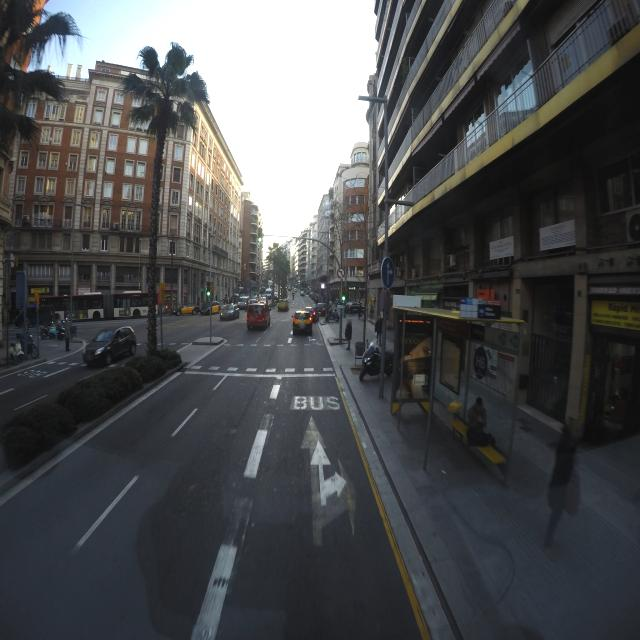car: (82, 327, 136, 368), (246, 304, 271, 330), (292, 310, 313, 336), (219, 304, 239, 321), (307, 308, 319, 323), (277, 298, 289, 312), (315, 302, 327, 315), (237, 298, 248, 310), (210, 302, 220, 314)
